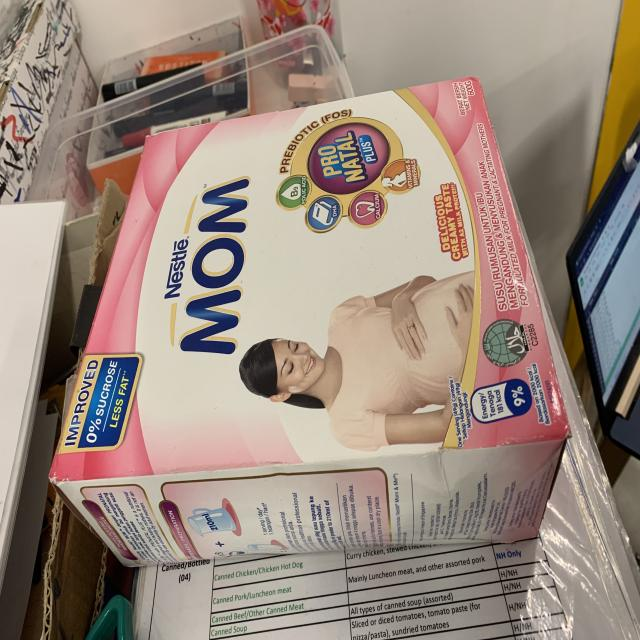object_name: (81, 132, 557, 547)
